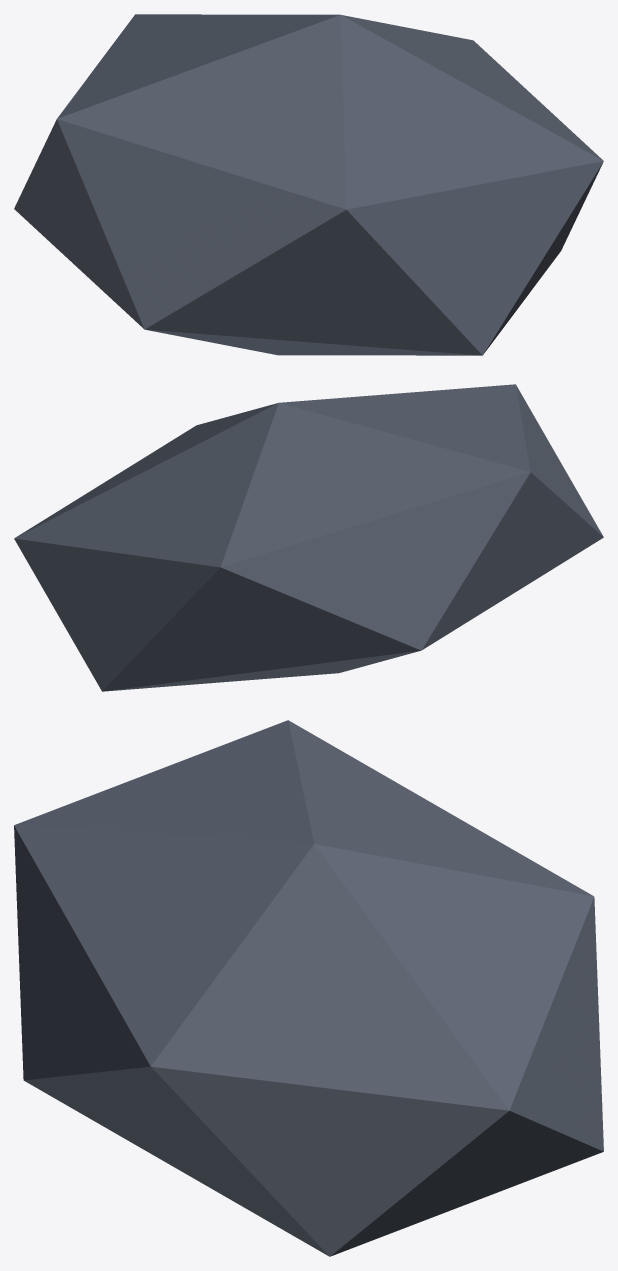
File: EXT_SouthCliff_00_Shard_1.glb
The picture shows the model from 3 angles, top to bottom: view 1: azimuth 30°, elevation 25°; view 2: azimuth 150°, elevation 25°; view 3: azimuth 270°, elevation 25°; orthographic projection. The views are drawn at different scales.
Parts seen in each view (by area): view 1: EXT_SouthCliff_00_Shard_1; view 2: EXT_SouthCliff_00_Shard_1; view 3: EXT_SouthCliff_00_Shard_1.
Part boxes in pixels (x1,y1,x2,y2): EXT_SouthCliff_00_Shard_1: (14, 14, 603, 355); EXT_SouthCliff_00_Shard_1: (14, 384, 603, 691); EXT_SouthCliff_00_Shard_1: (14, 720, 603, 1256).
Size of the model in its own units: 1.41 by 0.8191 by 1.36.
